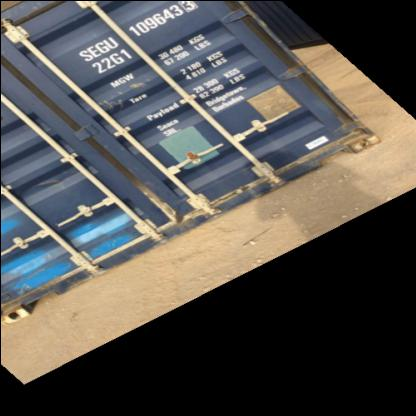Damage: (266, 136, 353, 173), (203, 172, 277, 209), (138, 192, 198, 232), (28, 262, 82, 303)
